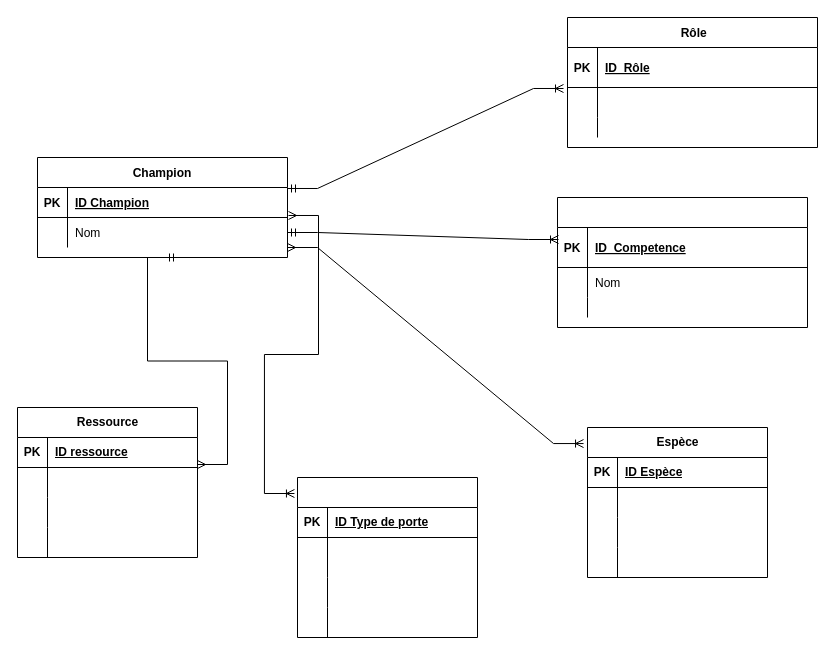
Some shapes in this 835 by 655 pixel diagram are drawn without their labels. The shapes that lost their labels are listed below. From the top down, each one's box as (x1, y1, x2, y2) in pixels, then its label:
(556, 196, 808, 328): Genre
(296, 476, 478, 638): Type de portée
